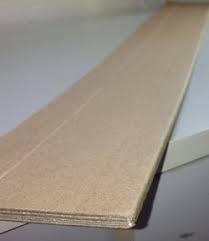Cardboard: (1, 7, 209, 235)
